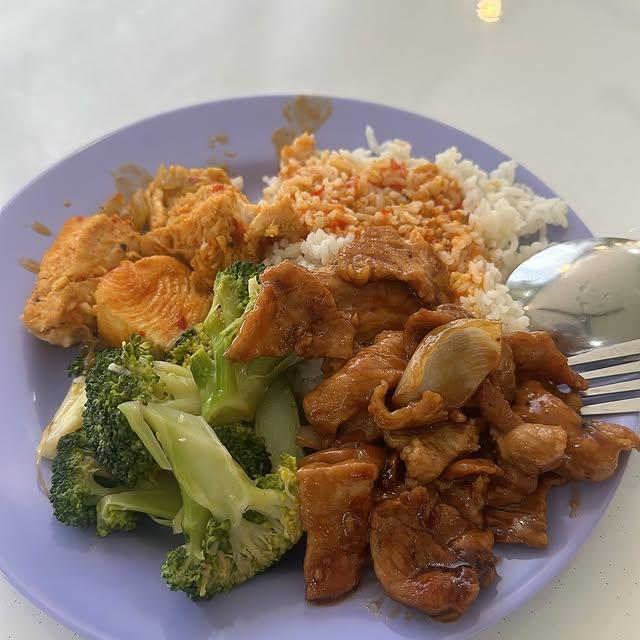Chicken: (21, 166, 284, 348)
Green veg: (49, 263, 301, 597)
Pork: (227, 227, 639, 619)
Rice: (247, 135, 566, 328)
